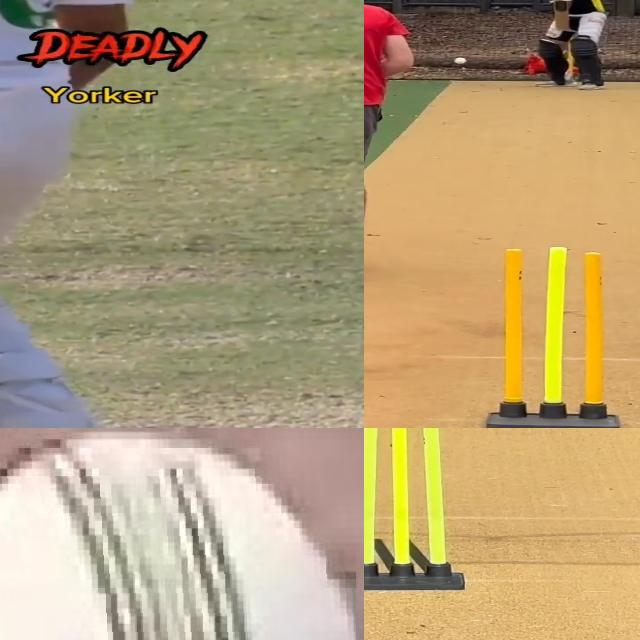Cricket ball: (0, 429, 356, 640), (454, 57, 467, 65)
Stumps: (482, 244, 620, 428), (364, 428, 465, 591)
